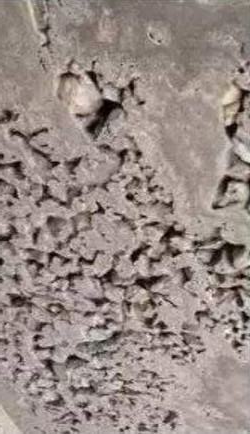Spalling: (1, 1, 204, 434), (205, 53, 250, 358)
